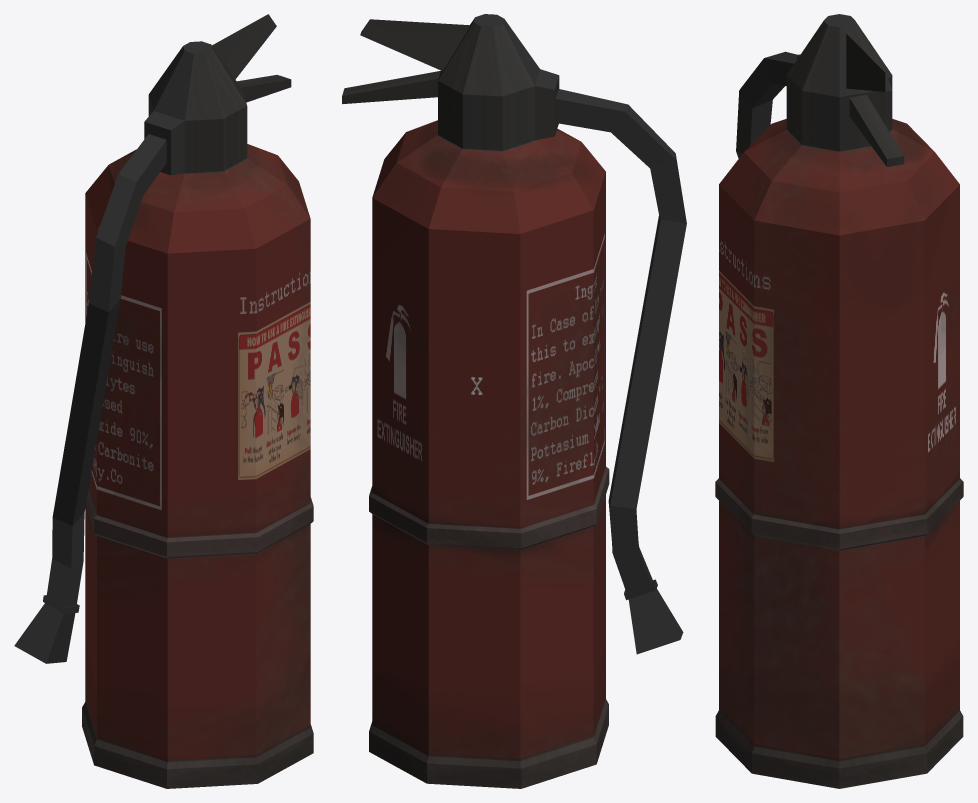
The model's file is fire_extinguisher.glb.
The picture shows the model from 3 angles, left to right: view 1: azimuth 30°, elevation 25°; view 2: azimuth 150°, elevation 25°; view 3: azimuth 270°, elevation 25°; orthographic projection. The views are drawn at different scales.
Visible parts, largest first — view 1: Cylinder; view 2: Cylinder; view 3: Cylinder.
Boxes of the visible parts, box(x1,y1,x2,y2) form: Cylinder: box(14, 14, 313, 788); Cylinder: box(342, 14, 686, 788); Cylinder: box(715, 14, 963, 788).
Bounding box in the file's own units: 0.2232 × 0.4911 × 0.1542.
Materials: 1 (1 with a texture image).
